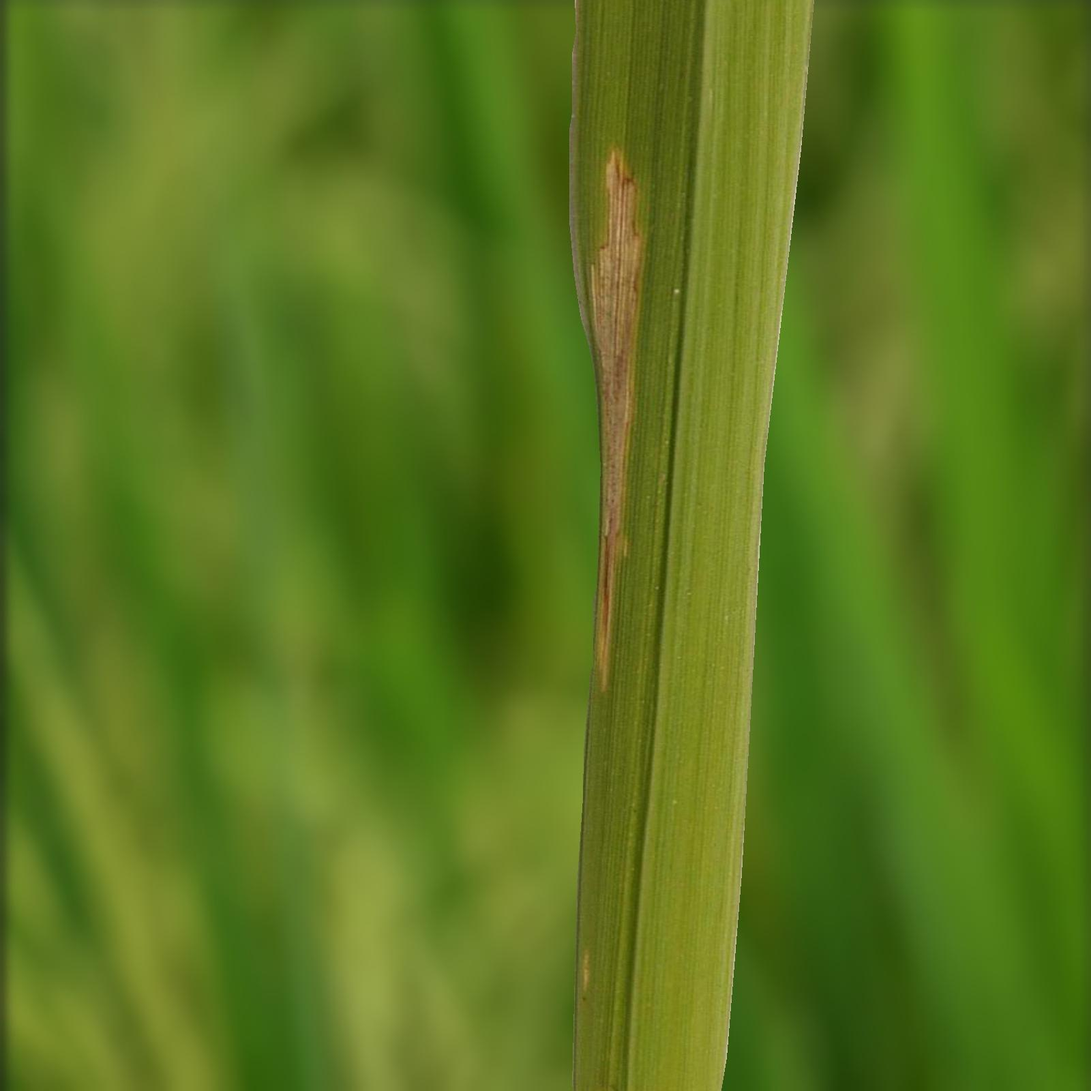BLS: (588, 147, 643, 687)
LEAF: (569, 0, 813, 1090)
